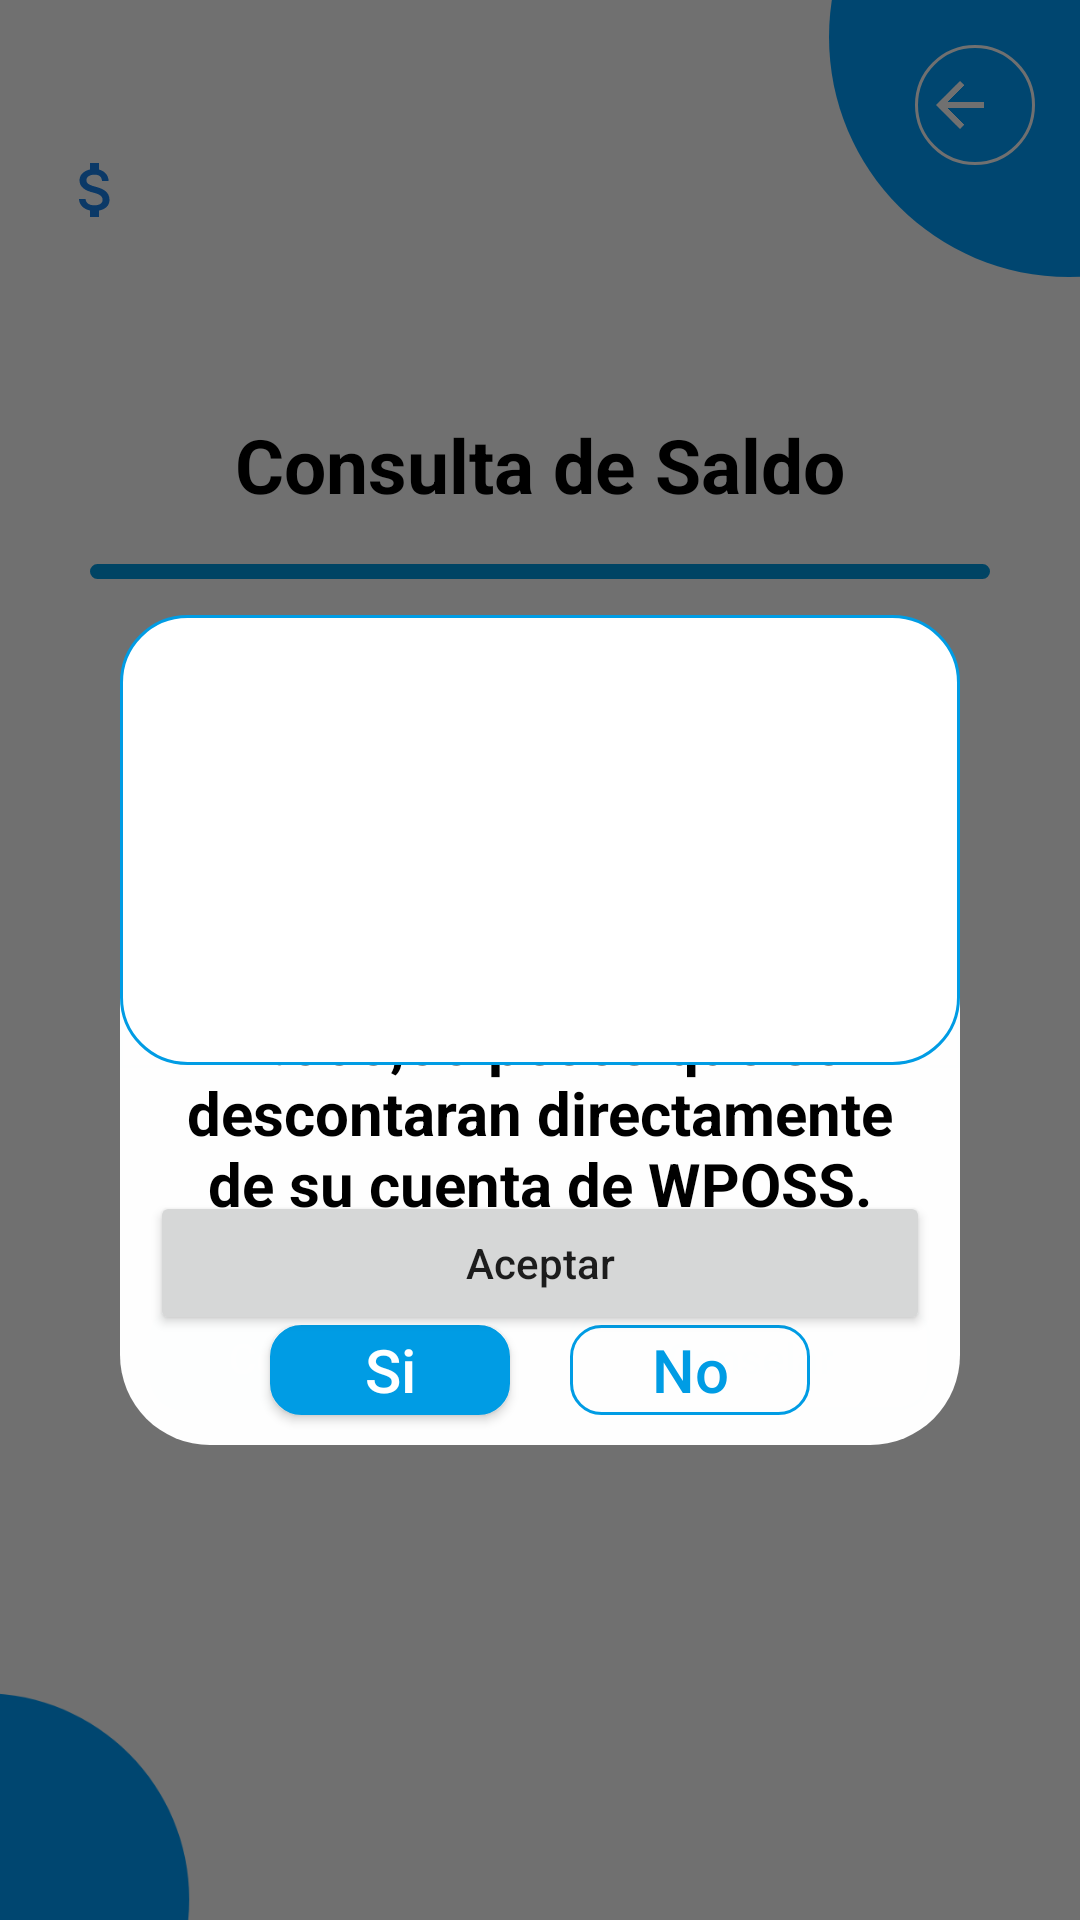

Icons on this 1080w x 1920h Android screen, each with its box as {"left": x1, "top": y1, "right": x2, "bottom": y2}:
back: {"left": 915, "top": 45, "right": 1035, "bottom": 165}
